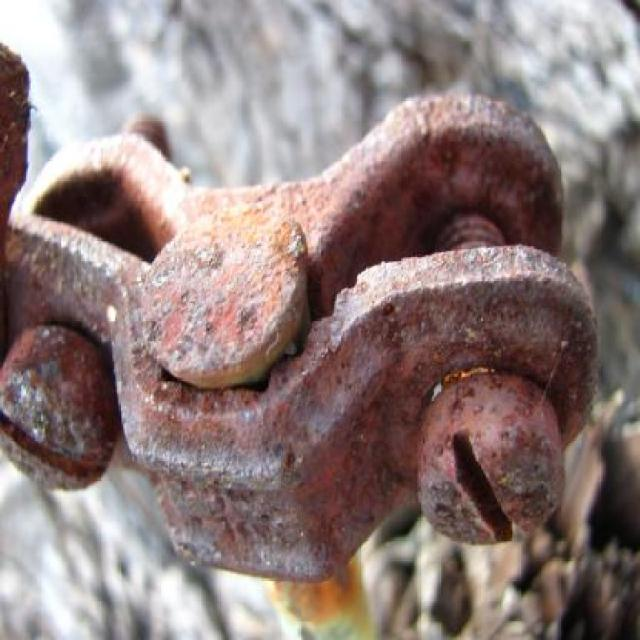corrosion: (2, 48, 606, 583)
